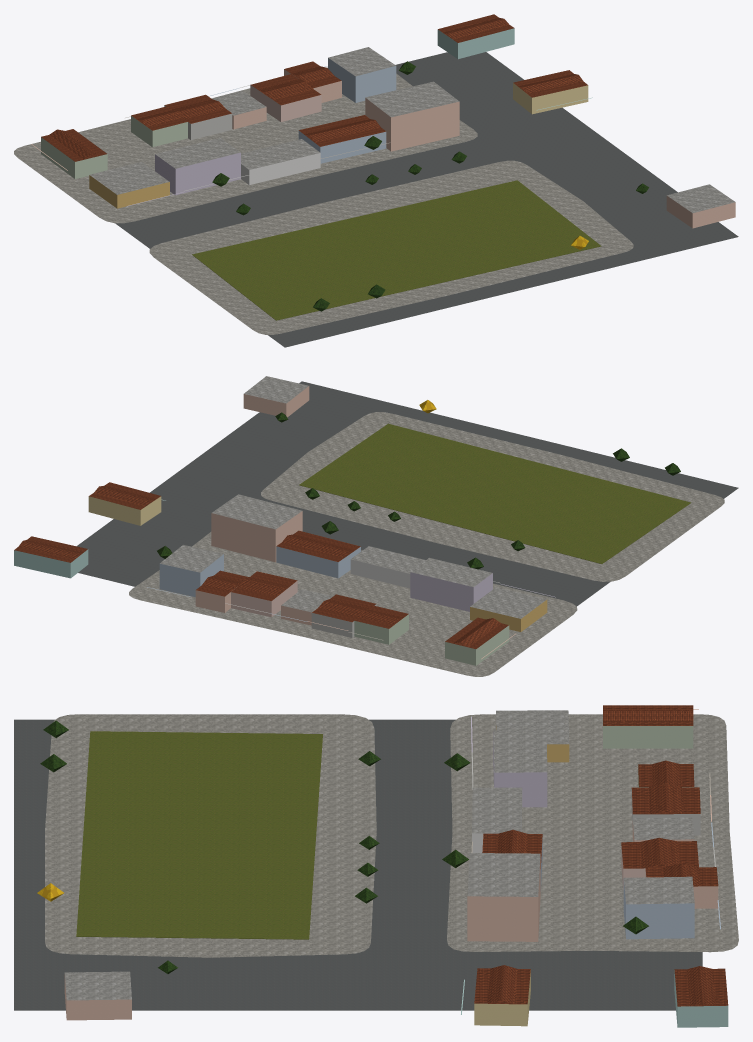
The model's file is cidade_S04_01_lod.gltf.
3 renders of one model, top to bottom at view 1: azimuth 30°, elevation 25°; view 2: azimuth 150°, elevation 25°; view 3: azimuth 270°, elevation 25°, orthographic. The views are drawn at different scales.
Parts seen in each view (by area): view 1: S04_01_Chao_LOD2, S04_01_Edificios_LOD1, S04_01_Silhueta_LOD2, S04_01_Vegetacao_LOD2; view 2: S04_01_Chao_LOD2, S04_01_Edificios_LOD1, S04_01_Silhueta_LOD2, S04_01_Vegetacao_LOD2; view 3: S04_01_Chao_LOD2, S04_01_Edificios_LOD1, S04_01_Silhueta_LOD2, S04_01_Vegetacao_LOD2.
Part boxes in pixels (x1,y1,x2,y2): S04_01_Chao_LOD2: (14,52,738,347); S04_01_Edificios_LOD1: (31,17,735,320); S04_01_Silhueta_LOD2: (41,14,588,178); S04_01_Vegetacao_LOD2: (212,61,648,311); S04_01_Chao_LOD2: (77,381,738,676); S04_01_Edificios_LOD1: (14,376,691,665); S04_01_Silhueta_LOD2: (14,482,509,665); S04_01_Vegetacao_LOD2: (157,400,680,569); S04_01_Chao_LOD2: (14,714,738,1010); S04_01_Edificios_LOD1: (64,709,728,1027); S04_01_Silhueta_LOD2: (474,705,728,1027); S04_01_Vegetacao_LOD2: (37,720,648,973).
Bounding box in the file's own units: 108 × 7.37 × 105.
Materials: 18 (18 with a texture image).
